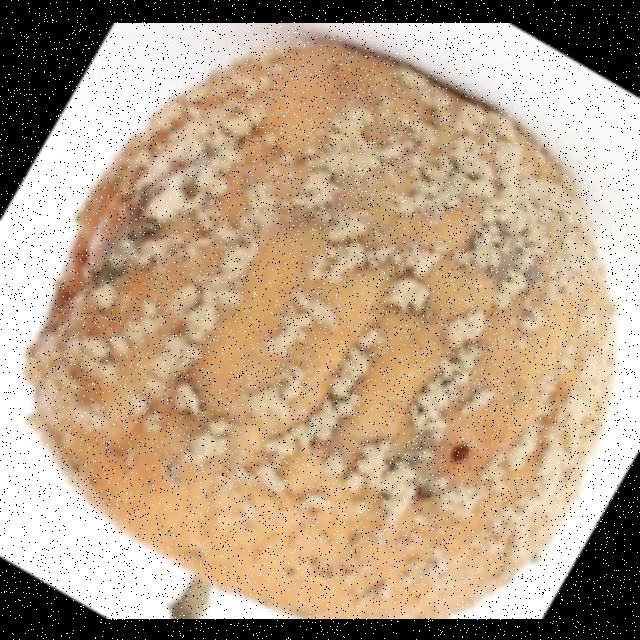Apel Tidak Segar: (18, 36, 614, 618)
